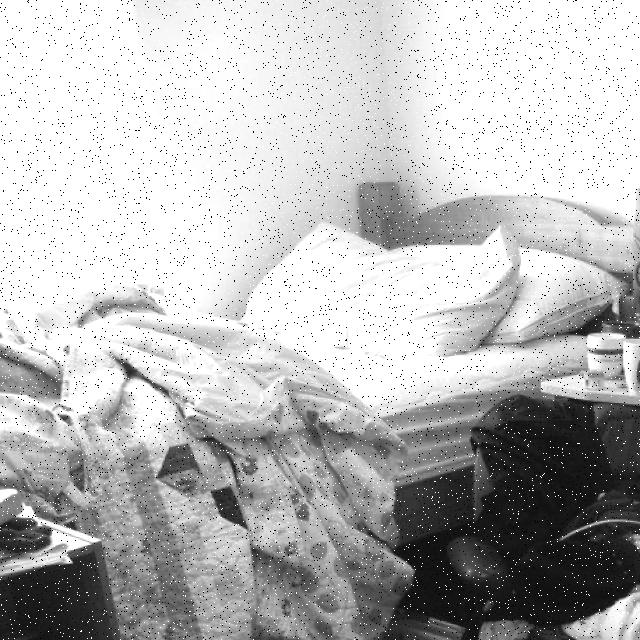bed: (1, 215, 612, 482)
